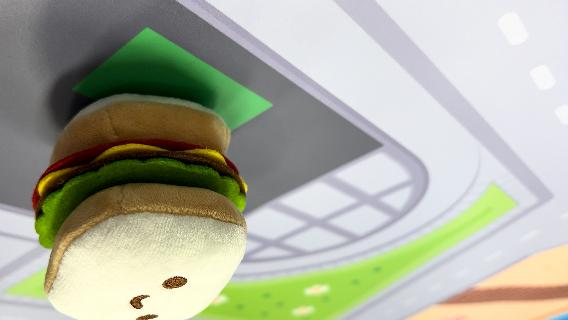sandwich: (31, 91, 251, 317)
